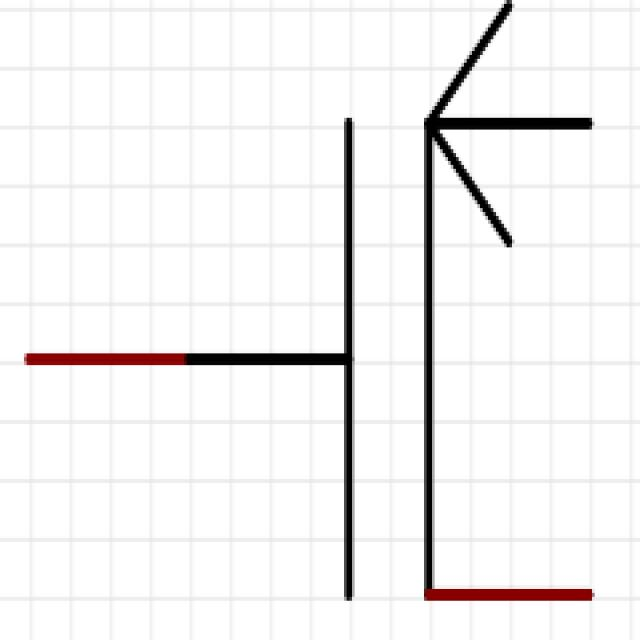pmos: (16, 16, 618, 640)
